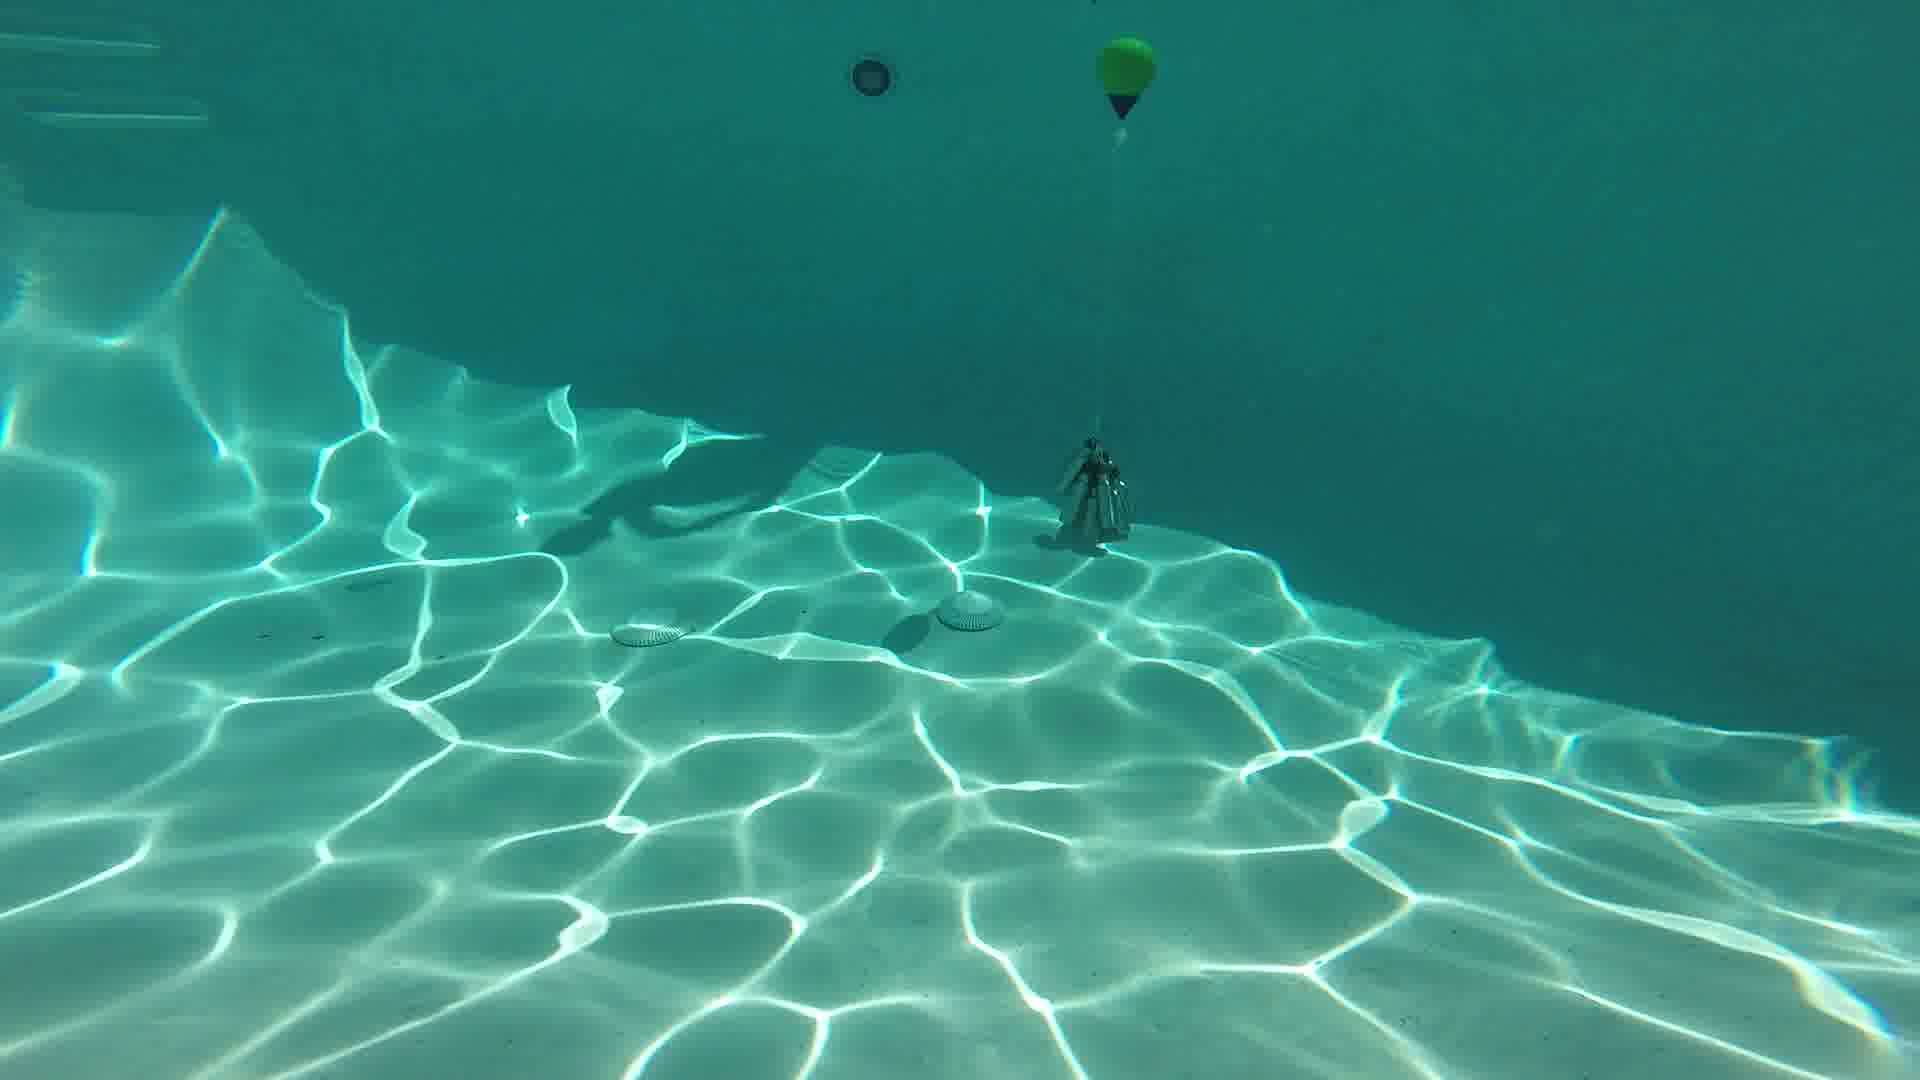yellow_buoy: (1098, 36, 1154, 121)
